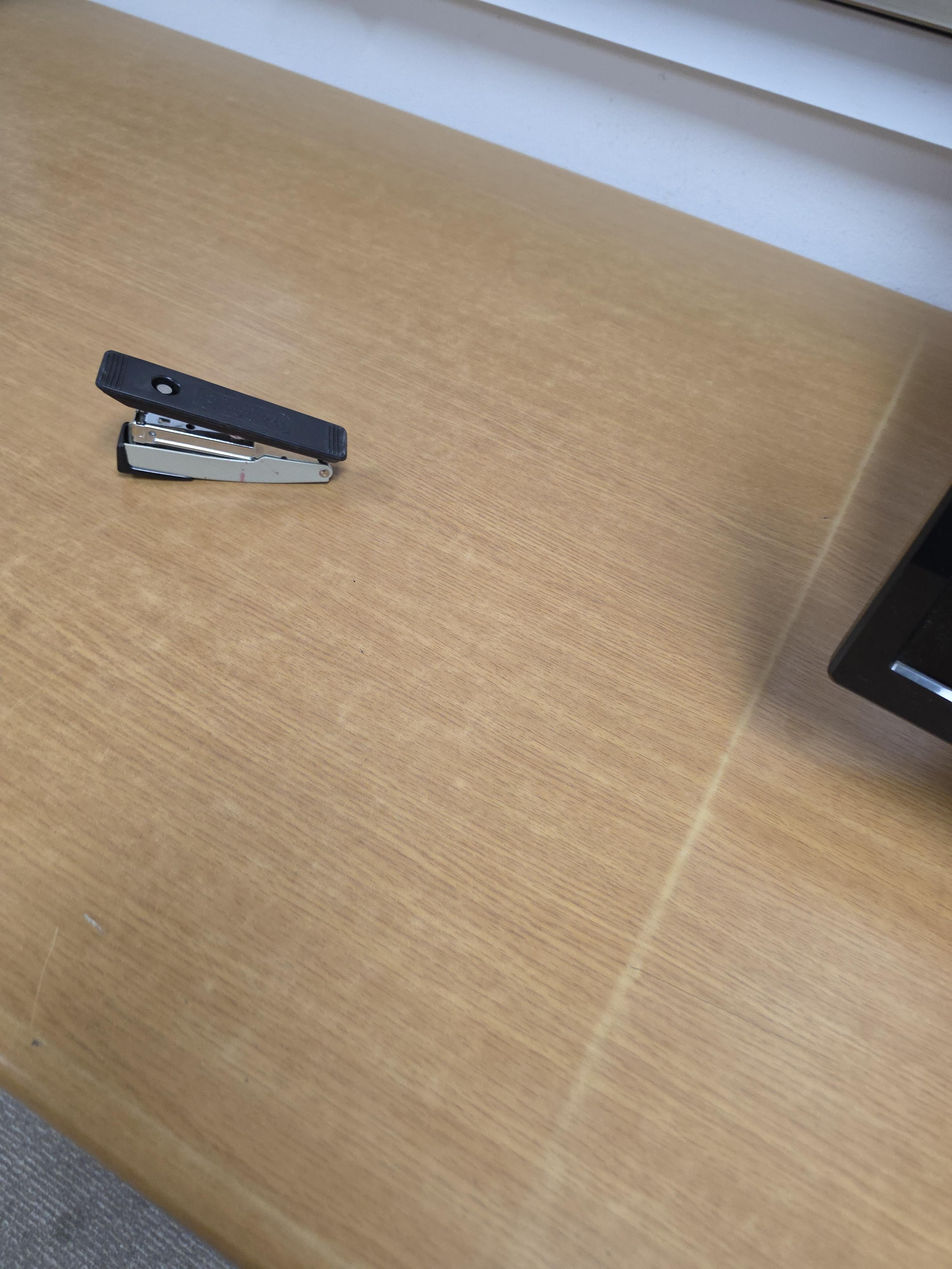stapler: (94, 350, 348, 484)
